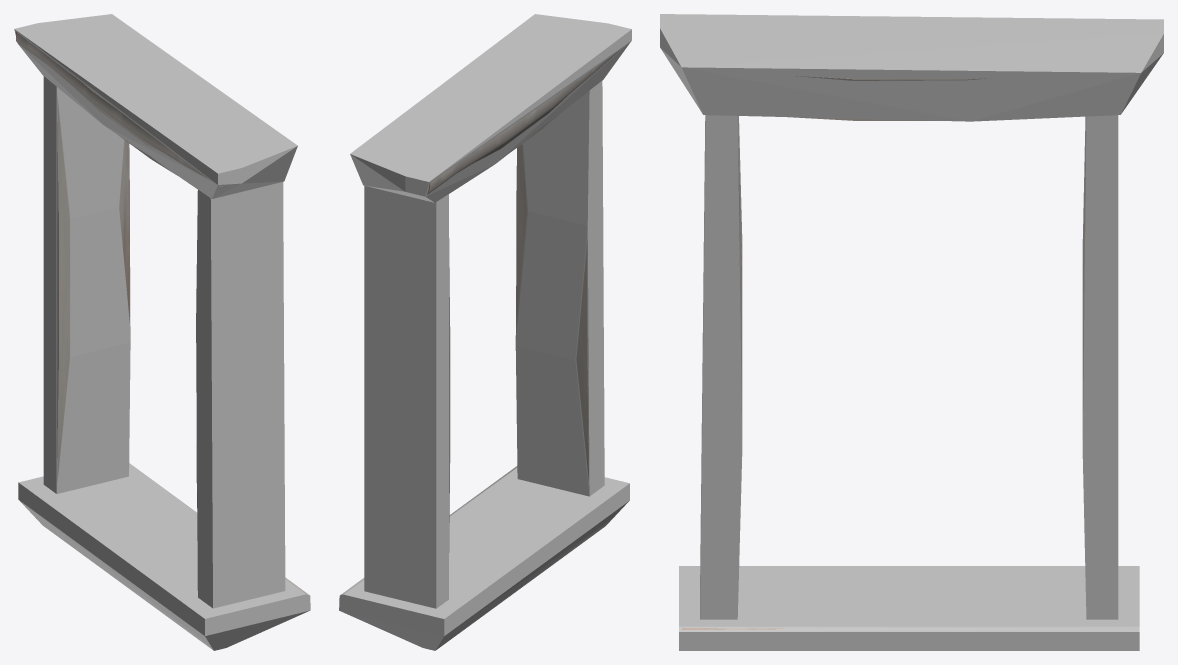
Rendered from SM_PropWindow01TypeA_1_1.fbx.
3 renders of one model, left to right at view 1: azimuth 30°, elevation 25°; view 2: azimuth 150°, elevation 25°; view 3: azimuth 270°, elevation 25°, orthographic. The views are drawn at different scales.
Parts seen in each view (by area): view 1: SM_PropWindow01TypeA_1_1_ConvexHulls, SM_PropWindow01TypeA_1_1; view 2: SM_PropWindow01TypeA_1_1_ConvexHulls, SM_PropWindow01TypeA_1_1; view 3: SM_PropWindow01TypeA_1_1_ConvexHulls, SM_PropWindow01TypeA_1_1.
Boxes of the visible parts, <box> form: SM_PropWindow01TypeA_1_1_ConvexHulls: <box>14,14,310,650</box>; SM_PropWindow01TypeA_1_1: <box>16,32,306,593</box>; SM_PropWindow01TypeA_1_1_ConvexHulls: <box>339,14,631,650</box>; SM_PropWindow01TypeA_1_1: <box>427,49,620,552</box>; SM_PropWindow01TypeA_1_1_ConvexHulls: <box>660,14,1163,650</box>; SM_PropWindow01TypeA_1_1: <box>682,75,1086,629</box>.
Size of the model in its own units: 45.11 by 151 by 200.
2 materials, 1 textured.
